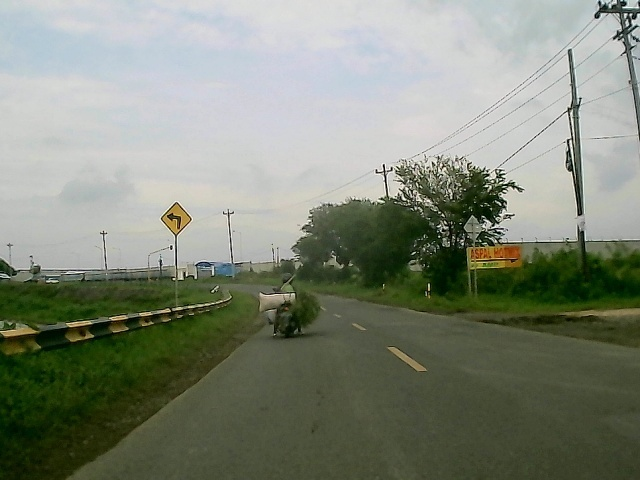Tikungan tajam ke kiri: (160, 201, 191, 236)
